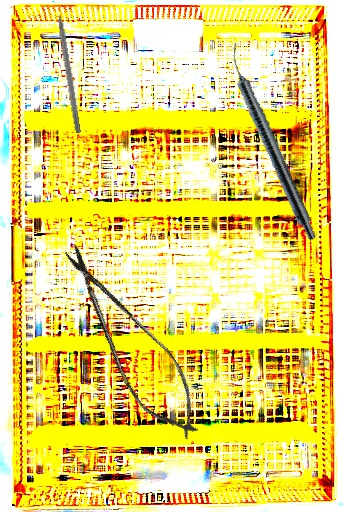Handpiece: (219, 42, 324, 243)
Hook Surgical: (54, 0, 83, 134)
Micro Scissor: (44, 233, 217, 452)
